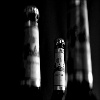beer: (18, 6, 45, 100)
